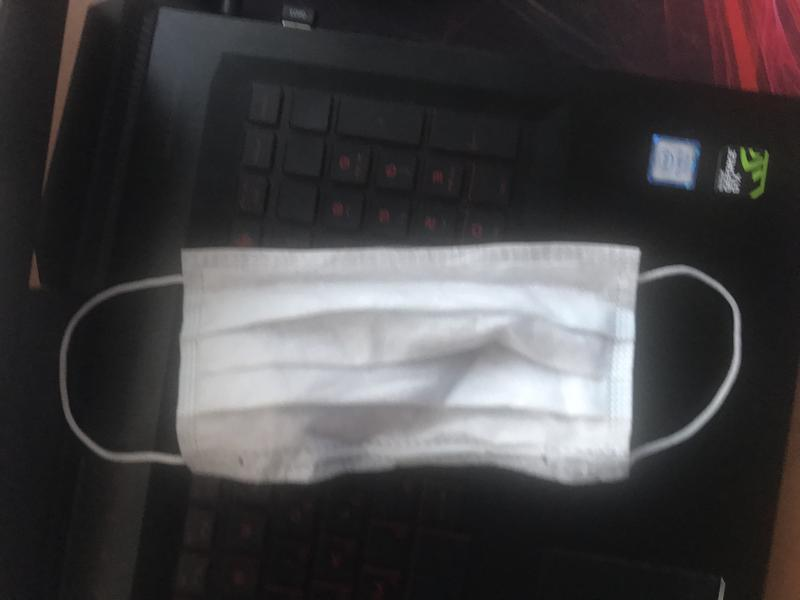medical_mask: (57, 247, 743, 480)
